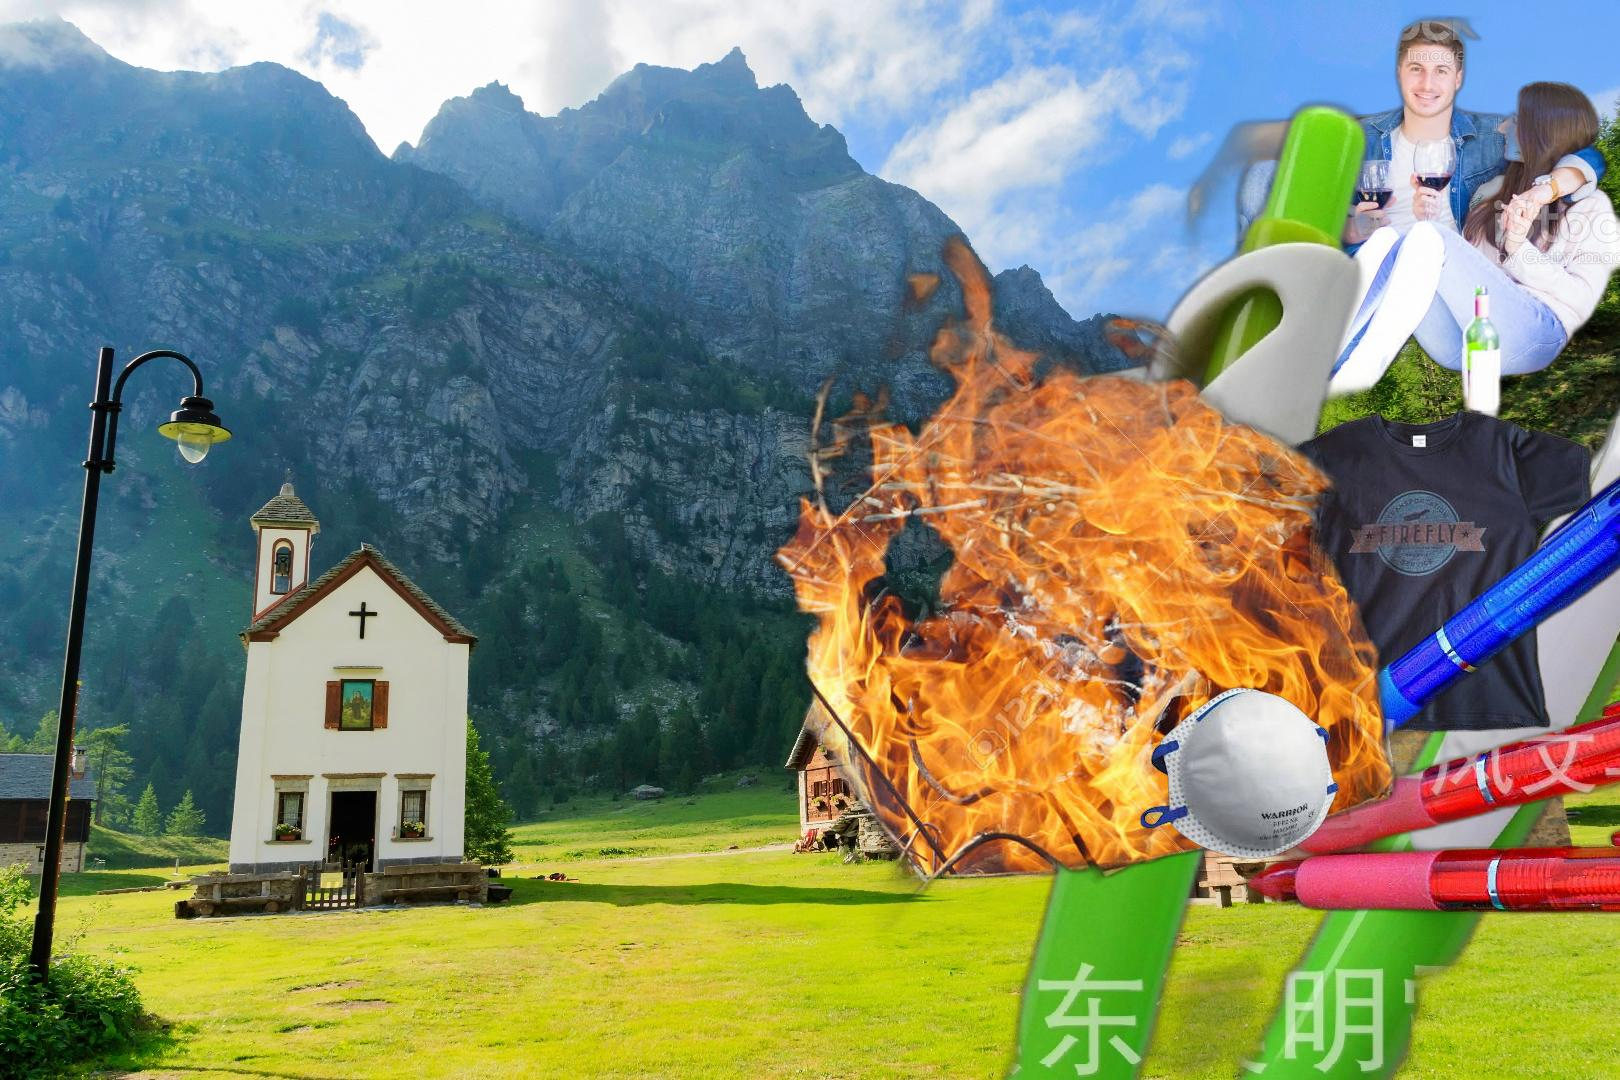clothes: (1237, 406, 1600, 736)
metal-cans: (1144, 546, 1436, 809)
penholder: (849, 88, 1620, 1080), (1227, 398, 1620, 925)
trash: (1137, 685, 1342, 861)
trashbox-cardboard: (749, 231, 1415, 984), (1061, 11, 1620, 575)
